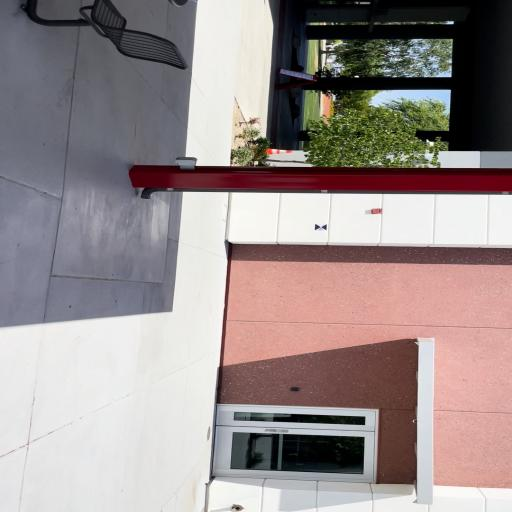target6: (315, 224, 327, 231)
